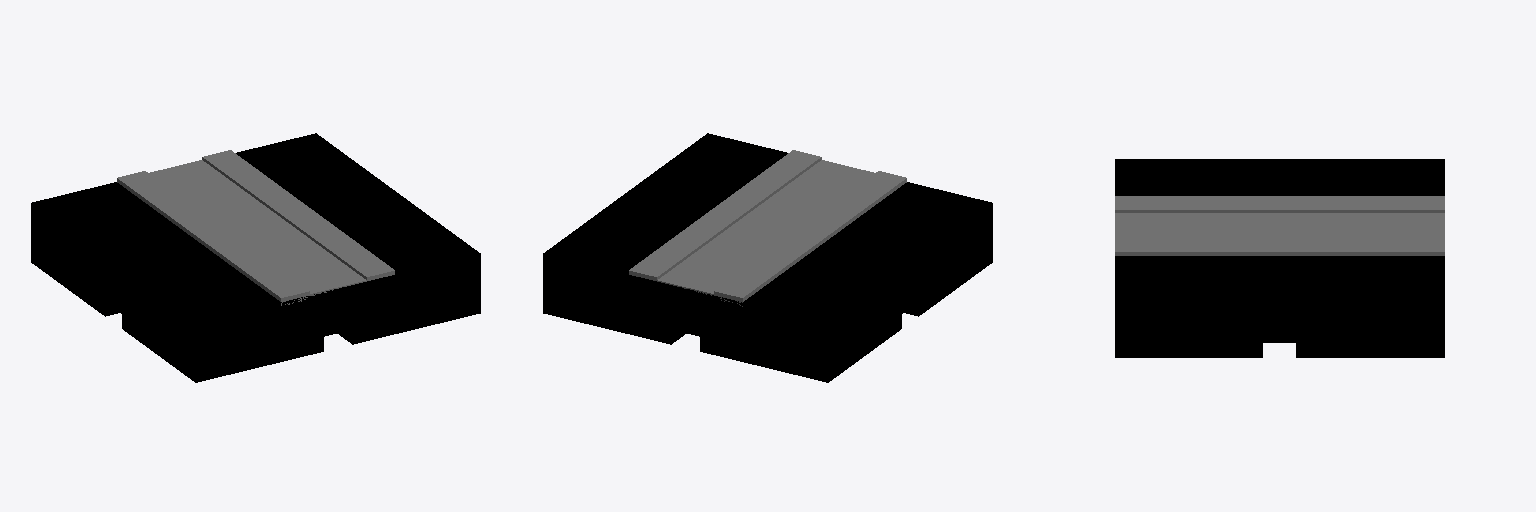
File: puzzlePiece_straight_NS.obj
The picture shows the model from 3 angles: view 1: azimuth 30°, elevation 25°; view 2: azimuth 150°, elevation 25°; view 3: azimuth 270°, elevation 25°; orthographic projection.
Parts seen in each view (by area): view 1: pCube1, polySurface3, polySurface2 pCube5; view 2: pCube1, polySurface3, polySurface2 pCube5; view 3: pCube1, polySurface3, polySurface2 pCube5.
Part boxes in pixels (bbox=[...]): pCube1: bbox=[31, 133, 480, 382]; polySurface3: bbox=[117, 150, 394, 305]; polySurface2 pCube5: bbox=[149, 160, 366, 295]; pCube1: bbox=[543, 133, 992, 382]; polySurface3: bbox=[629, 150, 906, 306]; polySurface2 pCube5: bbox=[657, 160, 874, 295]; pCube1: bbox=[1115, 159, 1444, 357]; polySurface3: bbox=[1115, 196, 1444, 255]; polySurface2 pCube5: bbox=[1115, 213, 1444, 237].
Size of the model in its own units: 0.5 by 0.107 by 0.5.